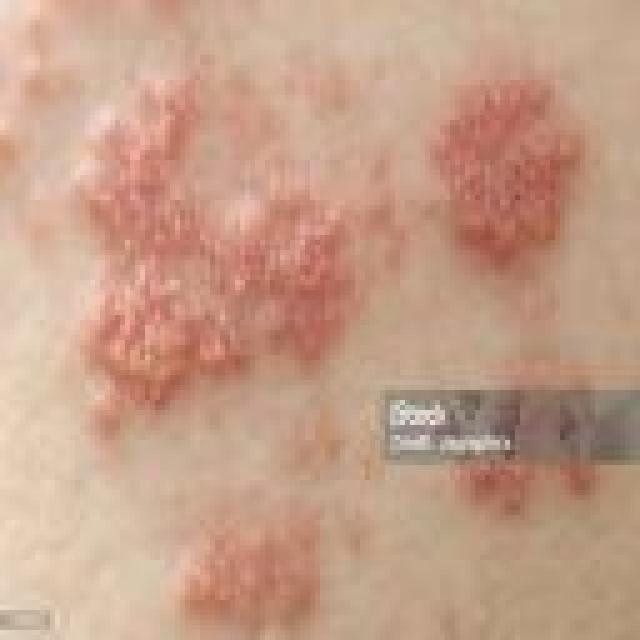Shingles: (70, 74, 328, 411), (438, 73, 589, 265), (174, 495, 324, 635)
